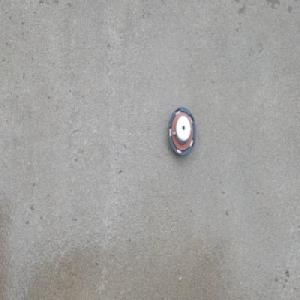FuelCap: (167, 105, 197, 158)
